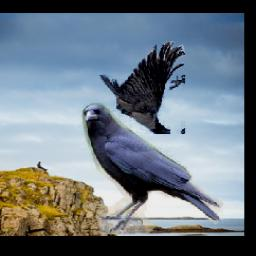Crow: (79, 104, 223, 235), (100, 42, 186, 135)
